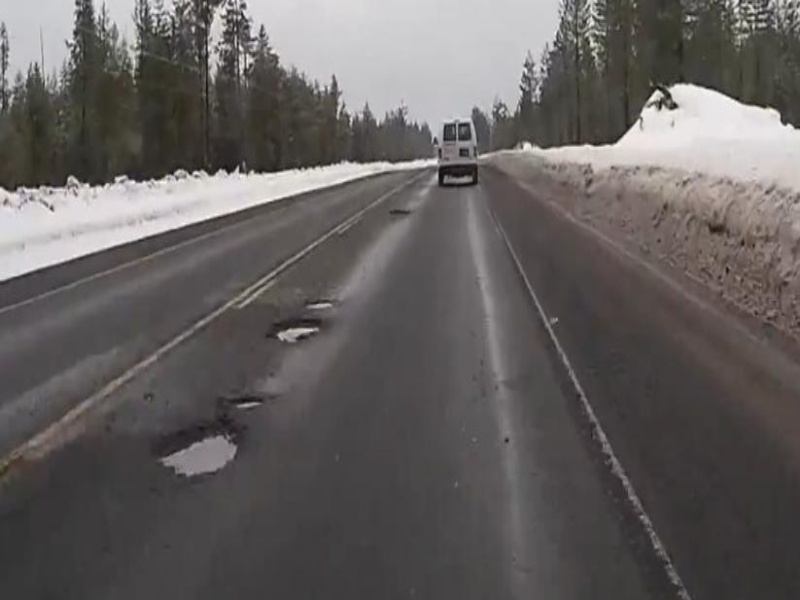pothole: (149, 417, 252, 479), (269, 316, 328, 343), (226, 395, 270, 410), (296, 297, 343, 311)
